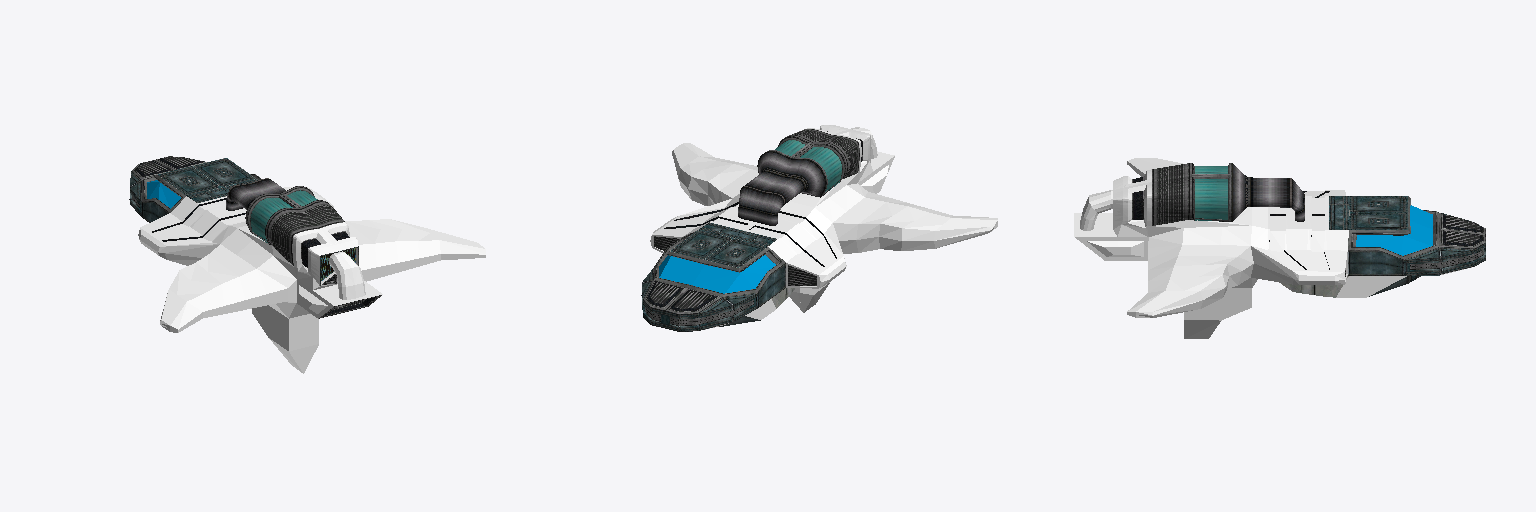
3 renders of one model, left to right at view 1: azimuth 30°, elevation 25°; view 2: azimuth 150°, elevation 25°; view 3: azimuth 270°, elevation 25°, orthographic.
Parts seen in each view (by area): view 1: Cube; view 2: Cube; view 3: Cube.
Part boxes in pixels (left/top/right/bottom): Cube: left=129, top=156, right=485, bottom=373; Cube: left=641, top=125, right=997, bottom=331; Cube: left=1074, top=158, right=1485, bottom=338.
Bounding box in the file's own units: 23.36 × 11.62 × 26.02.
Materials: 6 (4 with a texture image).